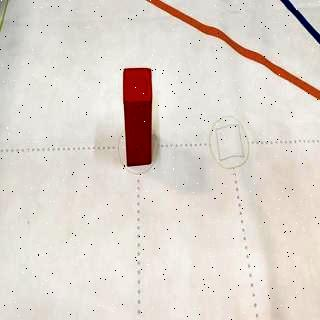redbox: (122, 66, 154, 168)
